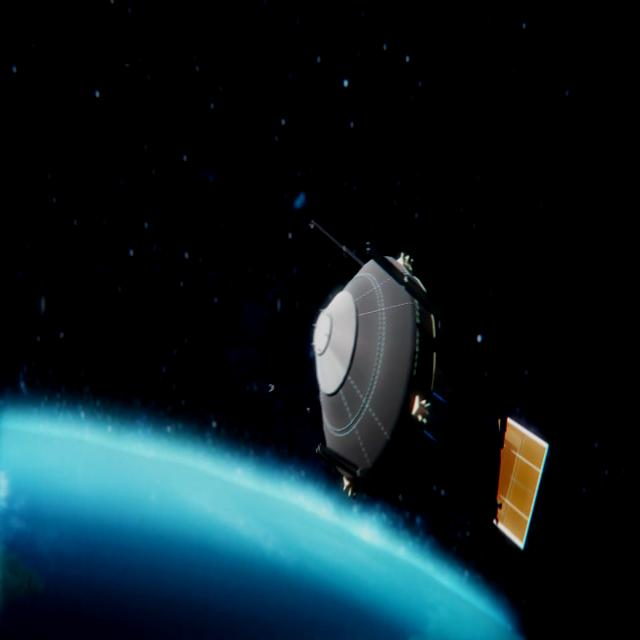satellite: (258, 202, 548, 562)
